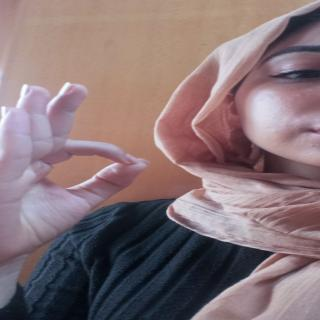Space: (0, 66, 163, 256)
